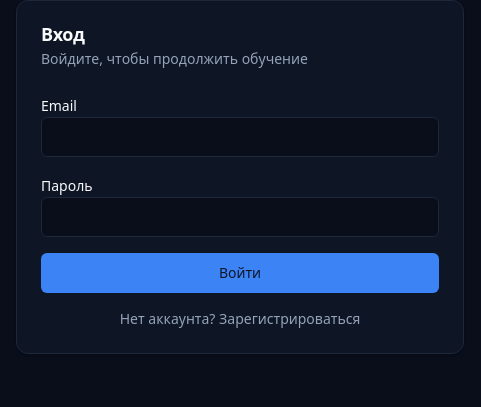
it: LoginForm › shows error on failed login
This screenshot has width=481, height=407.
Type "test@example.com" into the field labelled "Email" at (240, 137), box [41,117,439,157]
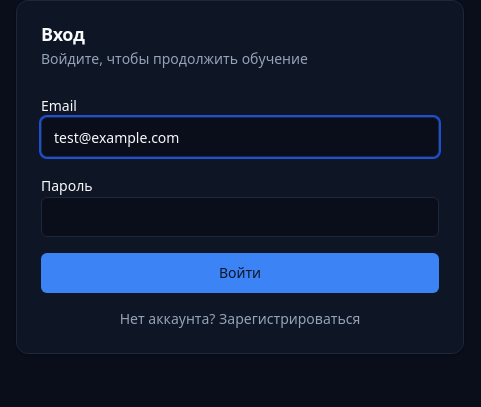
Type "secret123" into the password field labelled "Пароль" at (240, 217), box [41,197,439,237]
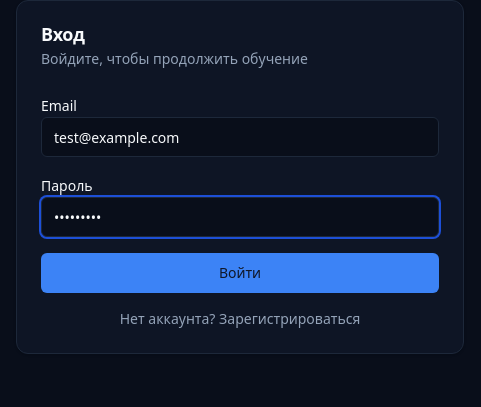
Click the button "Войти" at (240, 273), box [41,253,439,293]
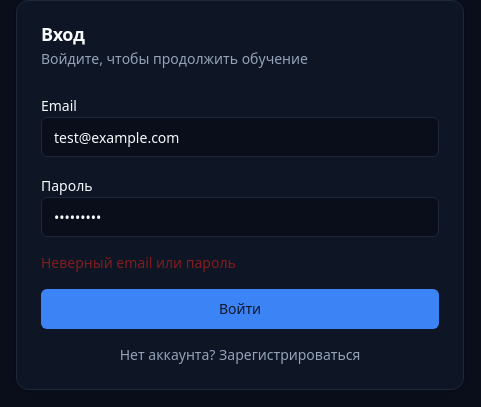
Expected: the text "Неверный email или пароль" is shown, [41,253,236,272]
